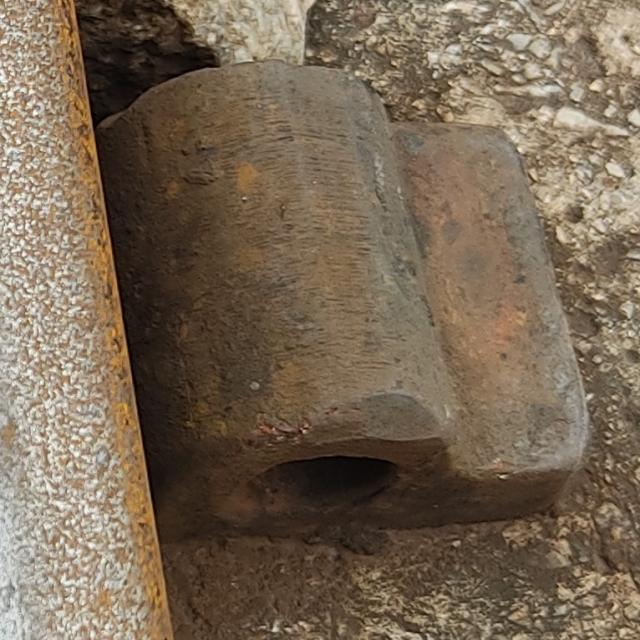track_bolt_missing: (160, 55, 465, 533)
